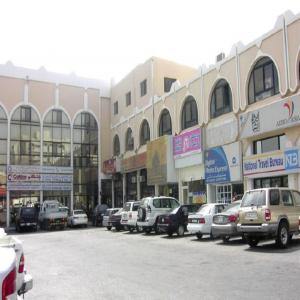Vehicle-registration-plate: (248, 215, 257, 218), (192, 220, 198, 223), (219, 218, 223, 222), (162, 220, 165, 223)
